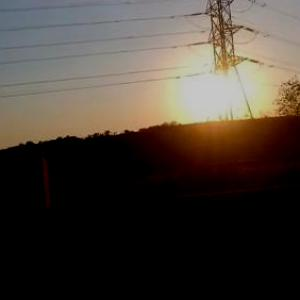follow: (217, 192, 277, 299)
